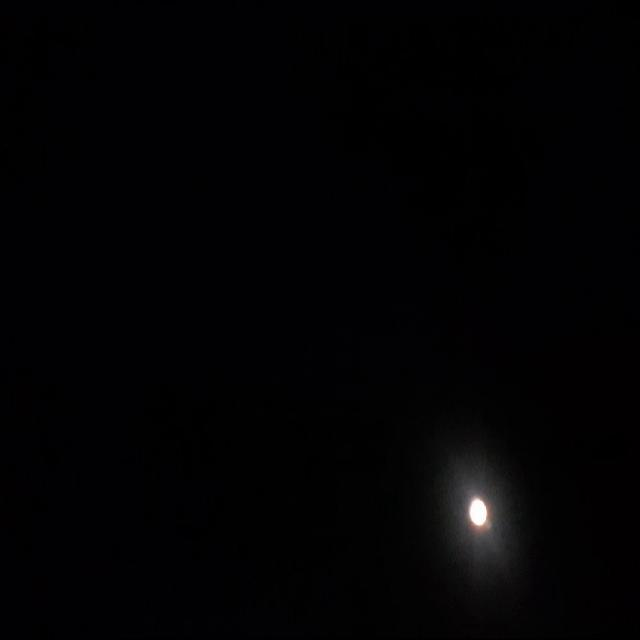moon: (481, 493, 504, 526)
